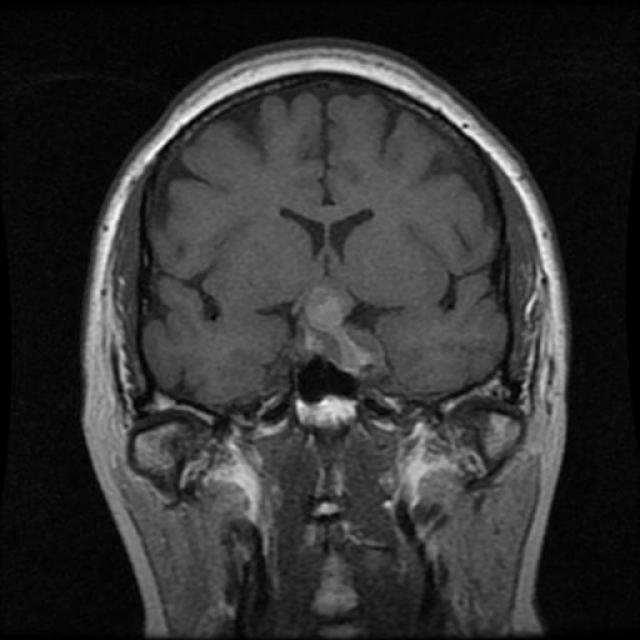pituitary: (296, 268, 379, 429)
